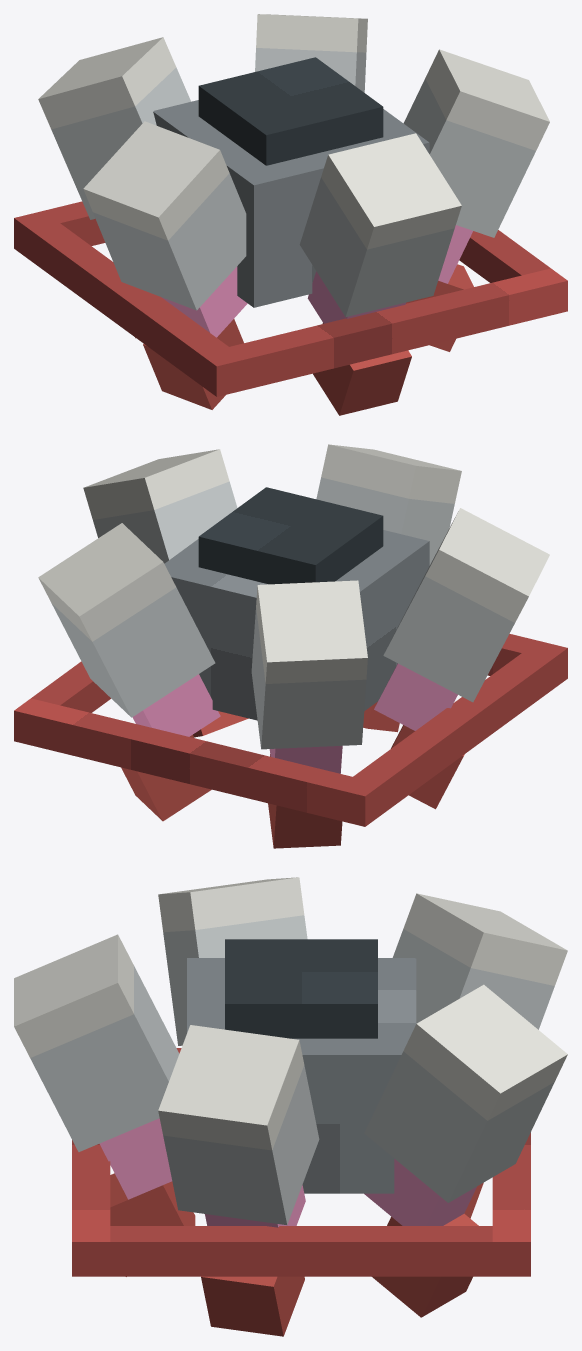
Rendered from main_engine.glb.
3 views of the same model, one above another, from view 1: azimuth 30°, elevation 25°; view 2: azimuth 150°, elevation 25°; view 3: azimuth 270°, elevation 25° (orthographic). The views are drawn at different scales.
Parts seen in each view (by area): view 1: red_engine_ring_back, engine_metal_hub, engine_dark_top, piston_top_0, silver_piston_4, piston_top_4, silver_piston_0, red_engine_ring_left, silver_piston_1, piston_top_1, piston_top_3, silver_piston_3 (+10 smaller); view 2: red_engine_ring_front, engine_metal_hub, engine_dark_top, piston_top_3, silver_piston_2, red_engine_ring_left, silver_piston_4, piston_top_2, piston_top_4, silver_piston_3, piston_top_1, piston_top_0 (+12 smaller); view 3: red_engine_ring_right, engine_metal_hub, engine_dark_top, piston_top_1, silver_piston_2, silver_piston_0, piston_top_2, silver_piston_1, piston_top_0, piston_top_3, silver_piston_3, piston_top_4 (+9 smaller).
Boxes of the visible parts, x1,y1,x2,y2 form: red_engine_ring_back: (200, 268, 567, 396); engine_metal_hub: (153, 100, 429, 307); engine_dark_top: (198, 57, 383, 165); piston_top_0: (321, 133, 461, 249); silver_piston_4: (93, 173, 246, 310); piston_top_4: (83, 121, 229, 240); silver_piston_0: (299, 177, 454, 316); red_engine_ring_left: (31, 223, 228, 384); silver_piston_1: (403, 78, 535, 237); piston_top_1: (425, 49, 549, 150); piston_top_3: (38, 37, 176, 129); silver_piston_3: (51, 67, 190, 219); red_engine_ring_front: (14, 698, 381, 826); engine_metal_hub: (164, 530, 429, 720); engine_dark_top: (198, 487, 383, 584); piston_top_3: (256, 580, 367, 683); silver_piston_2: (51, 587, 215, 717); red_engine_ring_left: (353, 653, 550, 814); silver_piston_4: (383, 537, 514, 702); piston_top_2: (38, 523, 175, 641); piston_top_4: (425, 508, 549, 622); silver_piston_3: (251, 608, 366, 749); piston_top_1: (83, 449, 229, 519); piston_top_0: (321, 444, 461, 503); red_engine_ring_right: (110, 1226, 492, 1276); engine_metal_hub: (187, 958, 416, 1193); engine_dark_top: (225, 939, 377, 1038); piston_top_1: (158, 1025, 304, 1150); silver_piston_2: (364, 1051, 554, 1202); silver_piston_0: (30, 966, 179, 1151); piston_top_2: (403, 984, 567, 1120); silver_piston_1: (163, 1065, 319, 1224); piston_top_0: (14, 934, 133, 1057); piston_top_3: (403, 893, 567, 985); silver_piston_3: (392, 929, 554, 1029); piston_top_4: (158, 877, 304, 932).
Bounding box in the file's own units: 15.23 × 8.73 × 14.49.
Materials: 1 (1 with a texture image).
